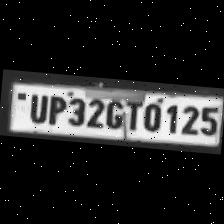0: (139, 99, 165, 134)
1: (160, 101, 181, 135)
2: (176, 100, 200, 136), (83, 94, 105, 129)
3: (64, 92, 88, 128)
5: (194, 102, 220, 137)
G: (102, 95, 126, 131)
P: (43, 92, 66, 126)
T: (122, 98, 142, 132)
U: (24, 90, 50, 124)
